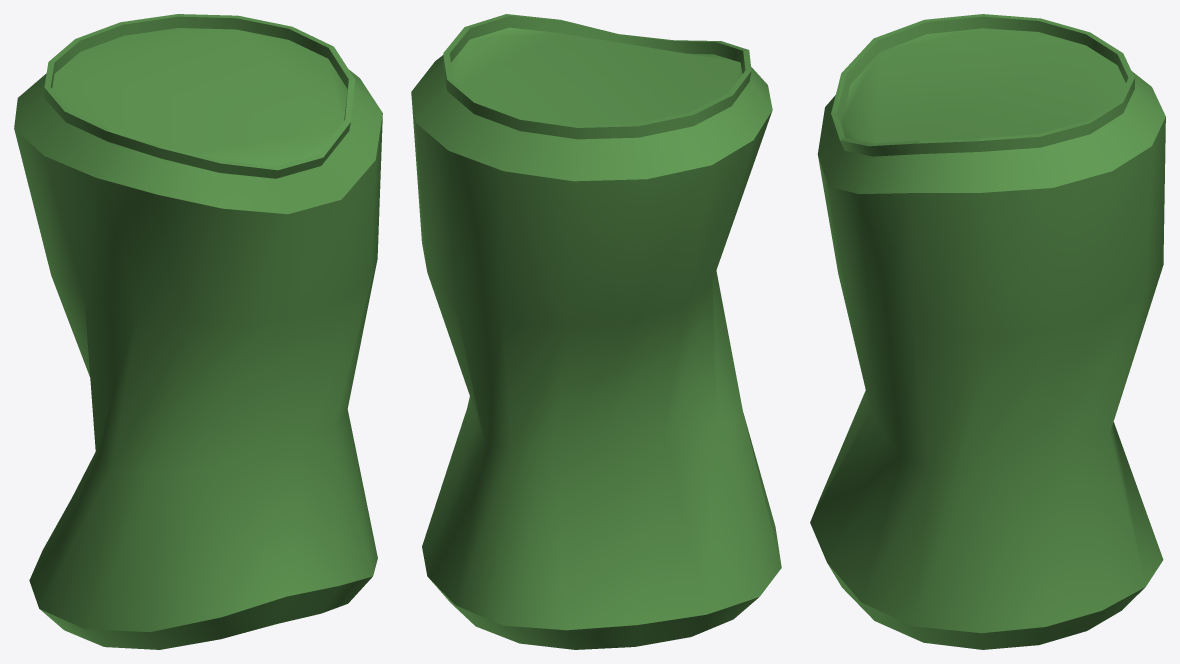
The model's file is cola 2 lod0.FBX.
3 renders of one model, left to right at view 1: azimuth 30°, elevation 25°; view 2: azimuth 150°, elevation 25°; view 3: azimuth 270°, elevation 25°, orthographic. The views are drawn at different scales.
Parts seen in each view (by area): view 1: Object337; view 2: Object337; view 3: Object337.
Boxes of the visible parts, box(x1,y1,x2,y2) form: Object337: box(14, 14, 382, 649); Object337: box(411, 14, 781, 649); Object337: box(810, 14, 1165, 649).
Size of the model in its own units: 0.1192 by 0.1843 by 0.1167.
